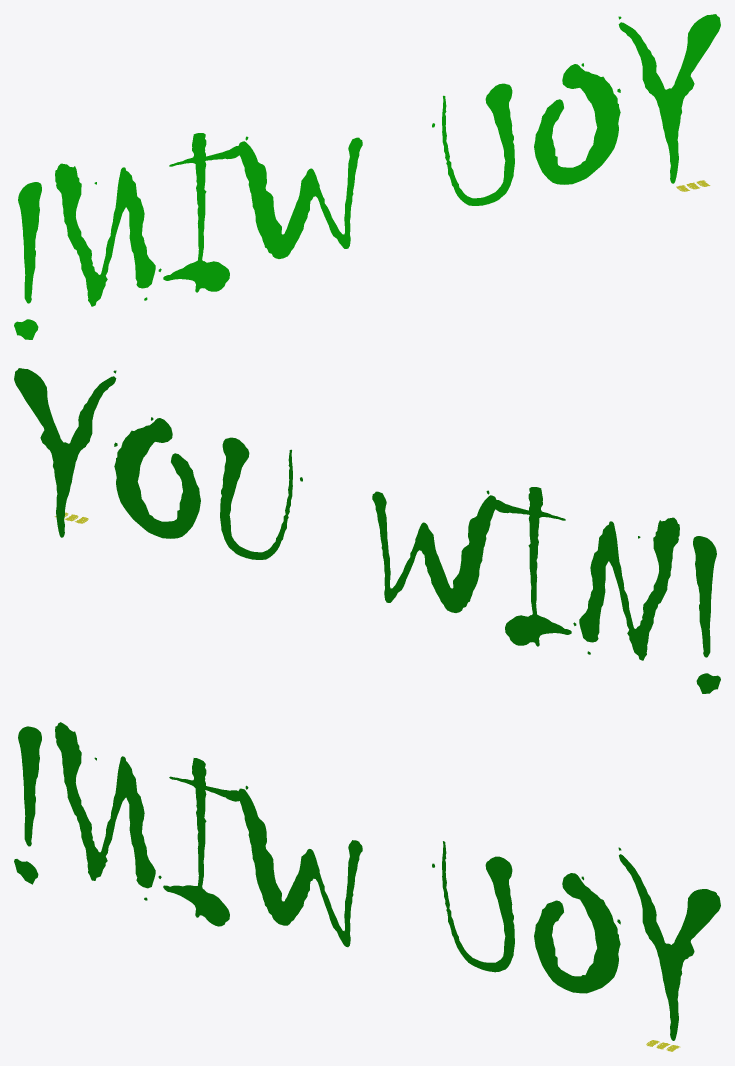
The model's file is youWinTextButtonText.obj.
3 views of the same model, one above another, from view 1: azimuth 30°, elevation 25°; view 2: azimuth 150°, elevation 25°; view 3: azimuth 330°, elevation 25° (orthographic).
Parts seen in each view (by area): view 1: youWinTextButtonText; view 2: youWinTextButtonText; view 3: youWinTextButtonText.
Part boxes in pixels (x1,y1,x2,y2): youWinTextButtonText: (14,14,720,339); youWinTextButtonText: (14,368,720,693); youWinTextButtonText: (14,722,720,1040).
Size of the model in its own units: 2.78 by 0.678 by 0.1315.
